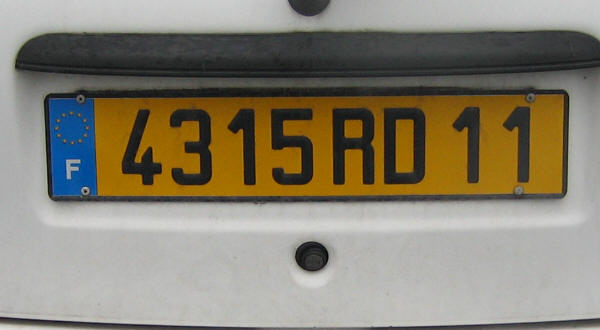license_plate: (43, 89, 569, 203)
